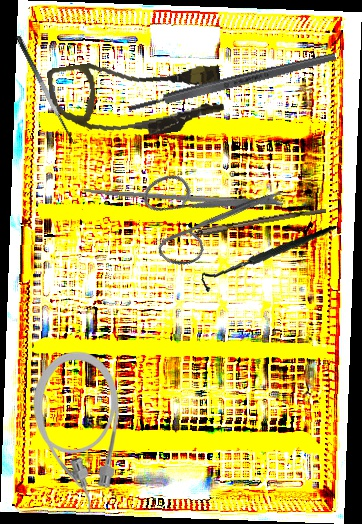Cannula: (46, 45, 227, 149), (33, 351, 120, 513)
Hook Surgical: (200, 212, 336, 305)
Iris Scissors: (119, 121, 292, 297)
Scalpel Handle: (127, 50, 337, 115), (83, 187, 284, 209)
Spatula Surgical: (15, 30, 83, 148)
Surgical Spoon: (154, 204, 327, 246)
